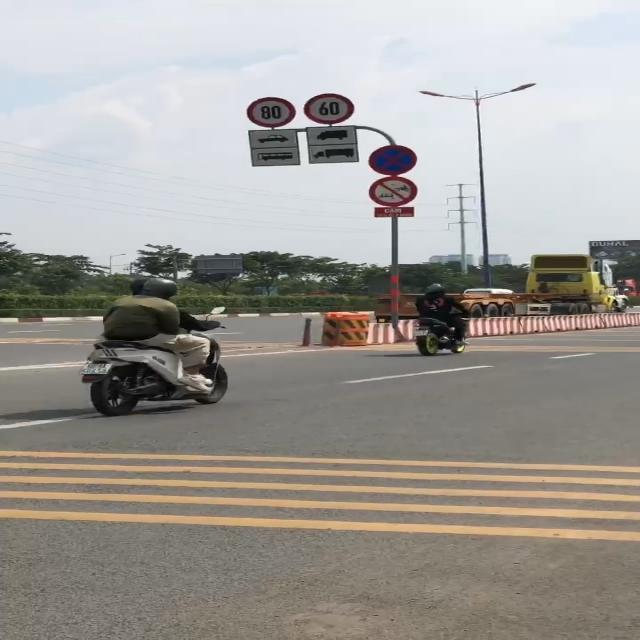Bien bao cam dung xe va do xe: (364, 144, 420, 178)
Bien bao toc do toi da cho phep: (302, 92, 356, 125), (244, 95, 296, 129)
